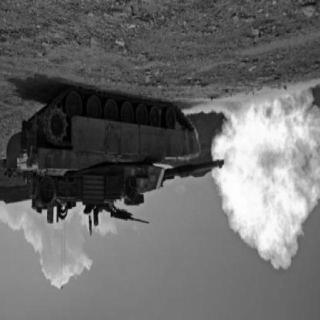Fire: (226, 93, 316, 261)
